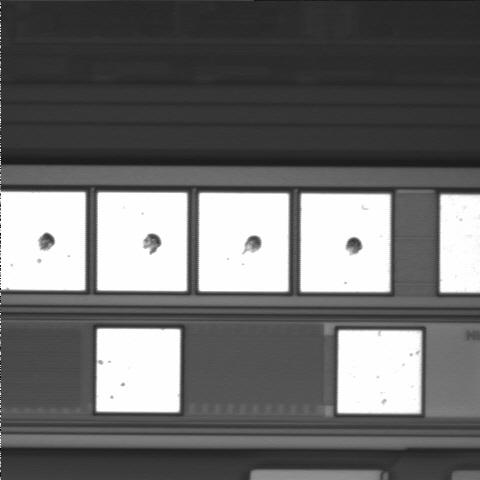pad: (97, 192, 187, 291), (199, 193, 289, 292), (301, 194, 390, 292), (96, 329, 180, 412), (338, 330, 421, 413)
